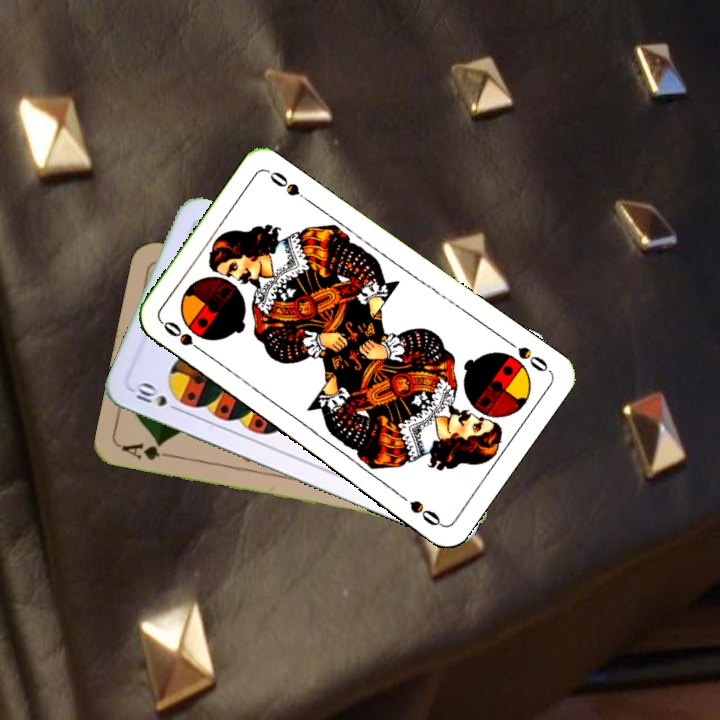GA: (117, 438, 177, 463)
S10: (128, 379, 184, 415)
SO: (158, 317, 210, 358), (501, 335, 553, 375)
